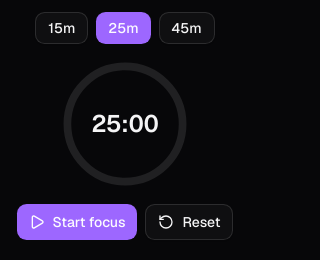
Test case: FocusTimer › counts down once started
Click the button "15m".
click(62, 28)  # box [35,12,88,44]
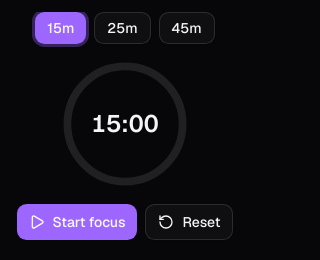
Click the button "Start focus".
click(77, 222)  # box [16,204,138,240]
Wait 3000 ms
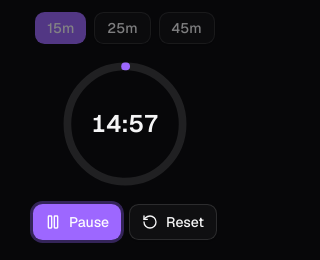
expect the text "14:57" is shown: met, box [91,108,159,140]
